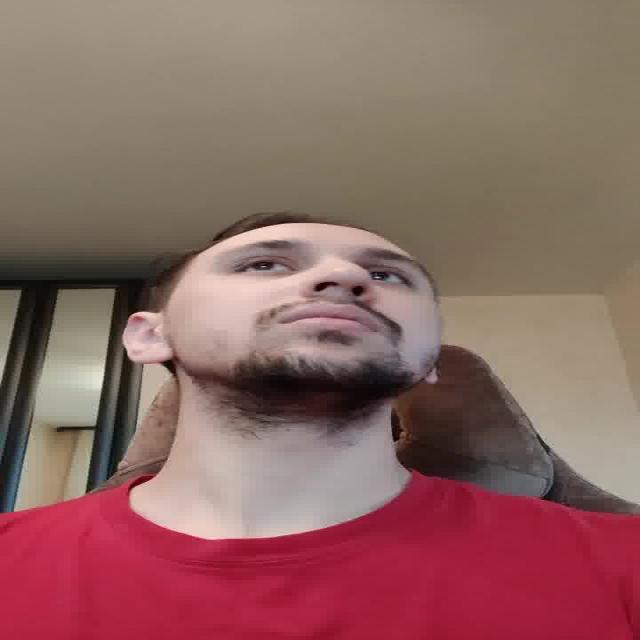earlobe: (123, 312, 178, 362)
